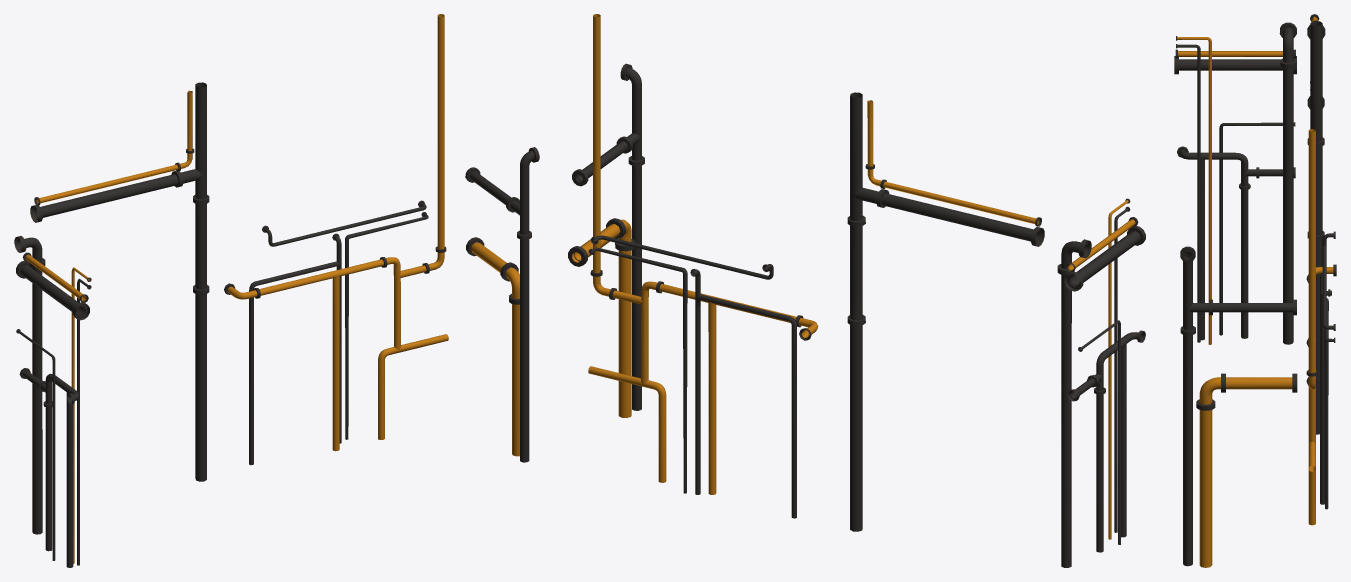
Rendered from SM_H_Building_Tide_WaterControl_02f_ATLAS.fbx.
3 renders of one model, left to right at view 1: azimuth 30°, elevation 25°; view 2: azimuth 150°, elevation 25°; view 3: azimuth 270°, elevation 25°, orthographic. The views are drawn at different scales.
Parts seen in each view (by area): view 1: SM_H_Building_Tide_WaterControl_02f_ATLAS; view 2: SM_H_Building_Tide_WaterControl_02f_ATLAS; view 3: SM_H_Building_Tide_WaterControl_02f_ATLAS.
Part boxes in pixels (x1,y1,x2,y2): SM_H_Building_Tide_WaterControl_02f_ATLAS: [14, 14, 539, 567]; SM_H_Building_Tide_WaterControl_02f_ATLAS: [568, 14, 1145, 567]; SM_H_Building_Tide_WaterControl_02f_ATLAS: [1174, 14, 1336, 567].
Bounding box in the file's own units: 2906 × 838 × 2425.
